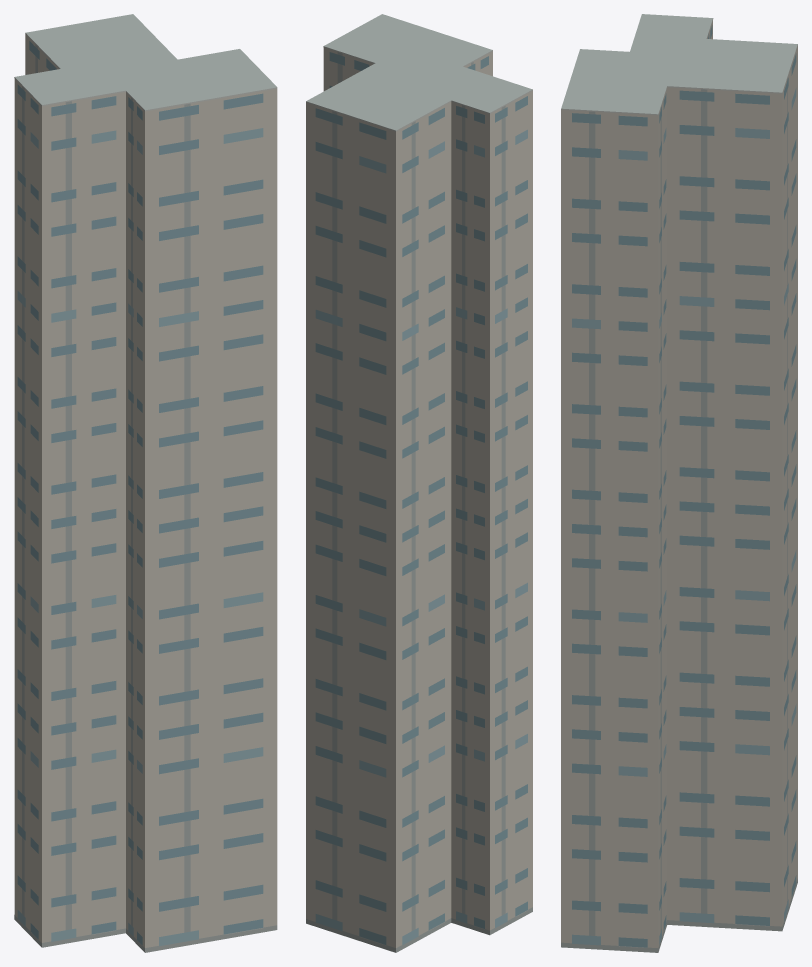
The model's file is residential-983ce938-62af-4601-99e9-81ca49da057b.glb.
3 views of the same model, side by side, from view 1: azimuth 30°, elevation 25°; view 2: azimuth 150°, elevation 25°; view 3: azimuth 270°, elevation 25° (orthographic). The views are drawn at different scales.
Visible parts, largest first — view 1: residential-983ce938-62af-4601-99e9-81ca49da057b.tmp; view 2: residential-983ce938-62af-4601-99e9-81ca49da057b.tmp; view 3: residential-983ce938-62af-4601-99e9-81ca49da057b.tmp.
Part boxes in pixels (x1,y1,x2,y2): residential-983ce938-62af-4601-99e9-81ca49da057b.tmp: (14,14,277,952); residential-983ce938-62af-4601-99e9-81ca49da057b.tmp: (306,14,532,952); residential-983ce938-62af-4601-99e9-81ca49da057b.tmp: (561,14,797,952).
Bounding box in the file's own units: 43.33 × 169 × 43.25.
